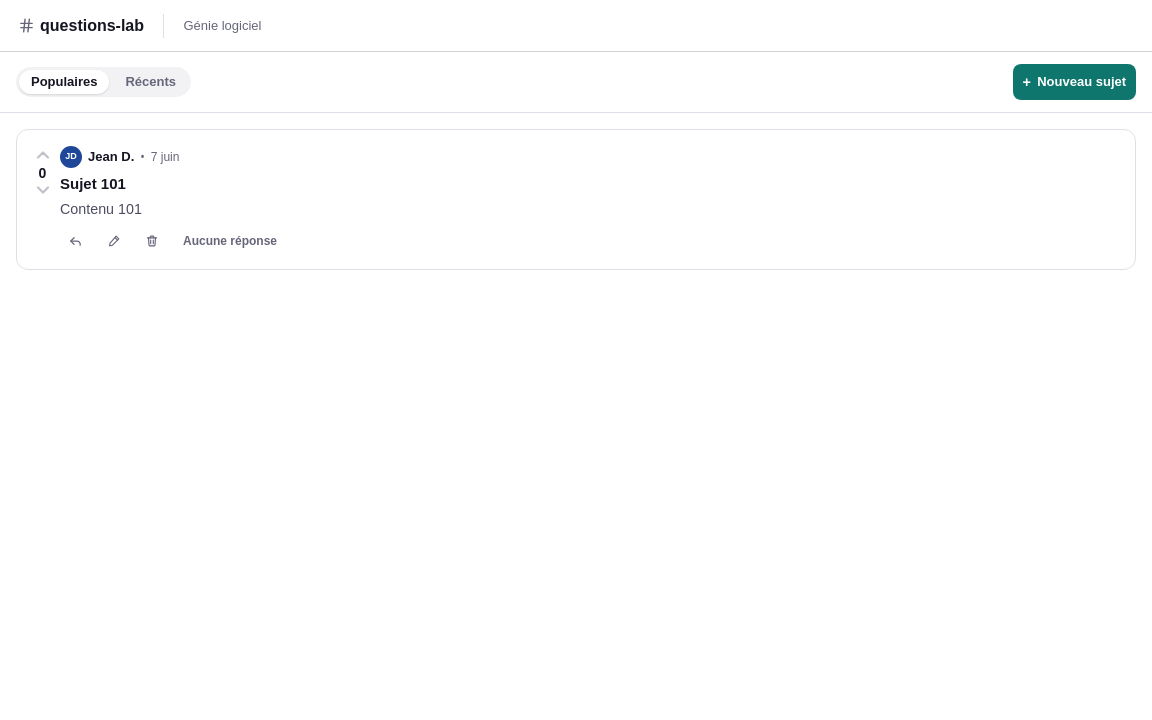
Test: ForumView › le bouton « Nouveau sujet » ouvre le formulaire de composition
Expected: the heading "Sujet 101" is shown, [60,175,126,192]
Step 1. Click the text "Nouveau sujet" → click(1082, 81), box [1037,74,1126,89]
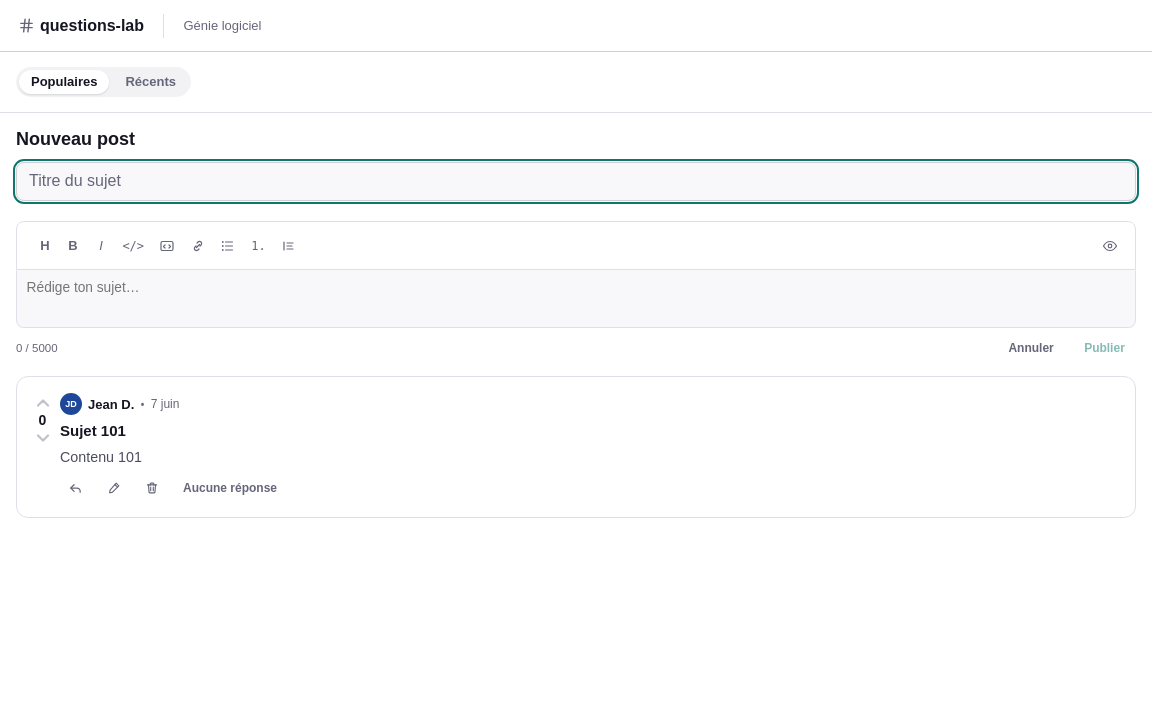
Result: the heading "Nouveau post" is shown at [16,129,135,149]
Result: the text box with placeholder "Rédige ton sujet…" is shown at [16,270,1136,328]
